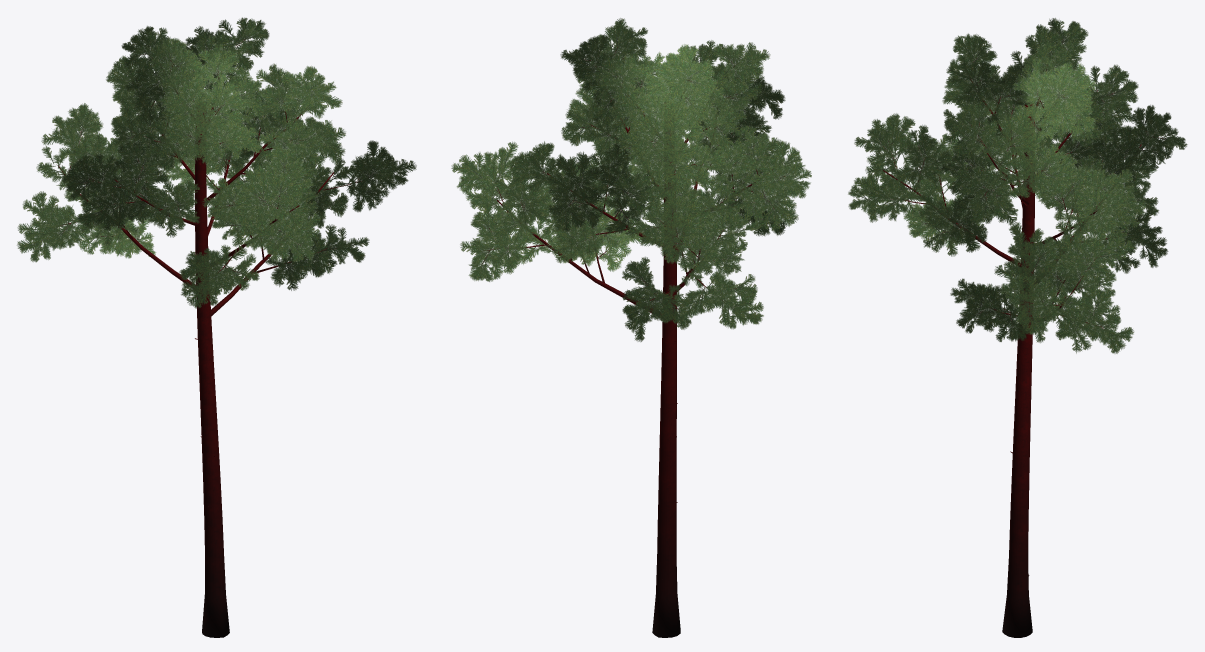
File: pine_open_v02.glb
3 views of the same model, side by side, from view 1: azimuth 30°, elevation 25°; view 2: azimuth 150°, elevation 25°; view 3: azimuth 270°, elevation 25° (orthographic). The views are drawn at different scales.
Parts seen in each view (by area): view 1: pine_open_v02; view 2: pine_open_v02; view 3: pine_open_v02.
Boxes of the visible parts, box(x1,y1,x2,y2) form: pine_open_v02: box(17, 17, 416, 637); pine_open_v02: box(451, 18, 811, 637); pine_open_v02: box(848, 18, 1187, 637).
Size of the model in its own units: 14.14 by 22.77 by 11.98.
Materials: 2 (2 with a texture image).
